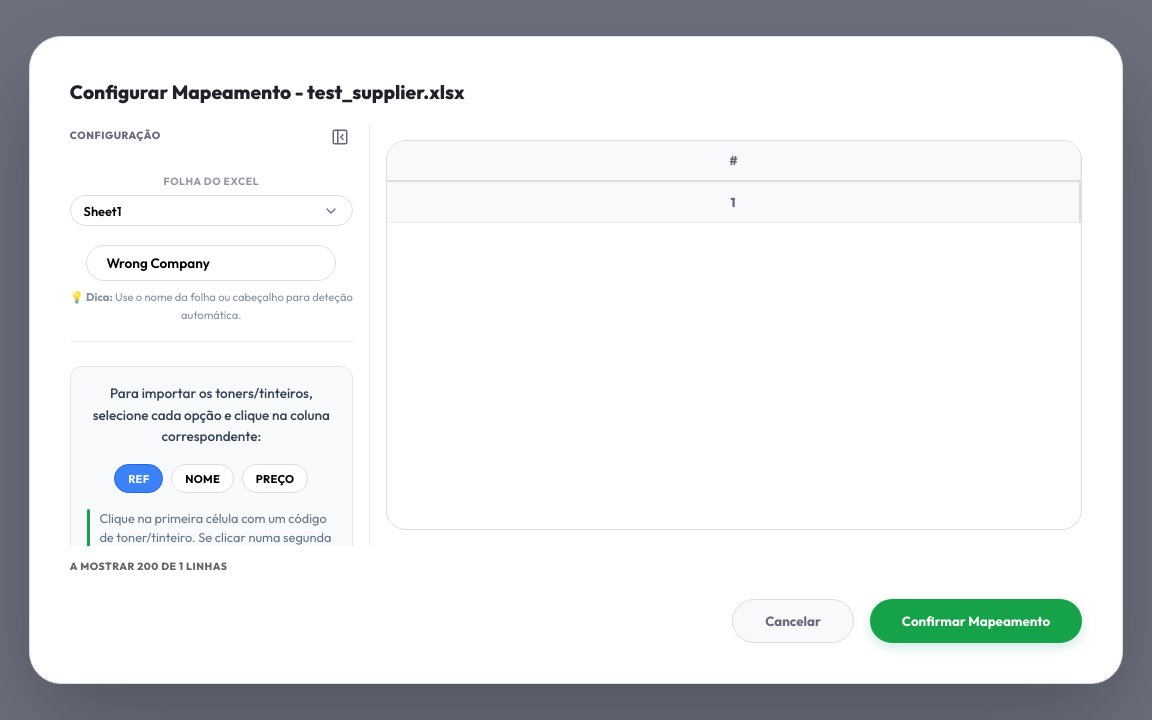
MappingModal Validation › should show warning when company name does not match filename
This screenshot has width=1152, height=720.
Click the button "Confirmar Mapeamento" at (976, 621), box [870,599,1082,643]
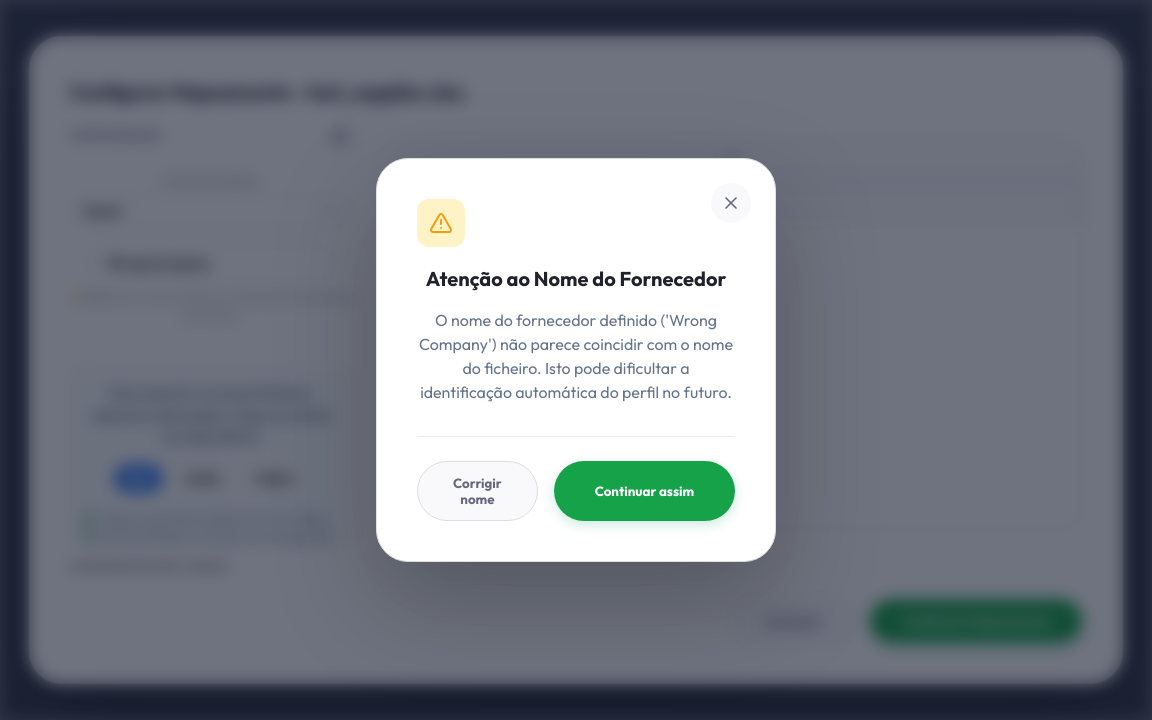
Check: the heading "Atenção ao Nome do Fornecedor" is shown, box [417,263,735,295]
Check: the text "O nome do fornecedor definido ('Wrong Company') não parece coincidir" is shown, box [419,310,733,402]
